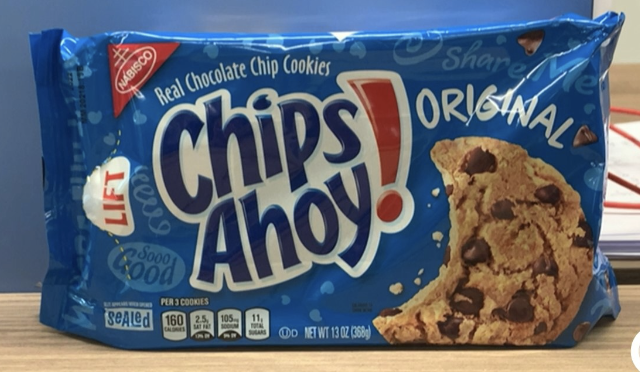cookies_300g-399g: (82, 52, 588, 343)
